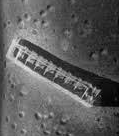ship: (4, 33, 103, 108)
